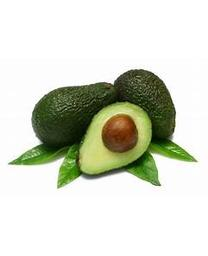avocado: (31, 81, 119, 147), (77, 101, 153, 176), (113, 70, 177, 144)
